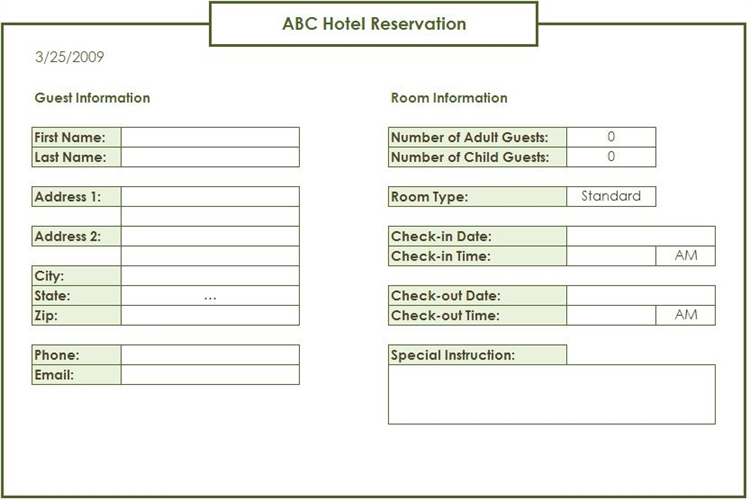textbox: (386, 359, 719, 428), (116, 238, 303, 271), (115, 339, 302, 370), (115, 141, 303, 171), (115, 280, 302, 310), (115, 300, 302, 330), (117, 260, 302, 290), (117, 358, 301, 388), (115, 201, 305, 230), (116, 222, 303, 251), (116, 124, 303, 152), (115, 184, 303, 210), (564, 221, 719, 251), (563, 282, 719, 307), (563, 300, 662, 329), (562, 123, 660, 152), (562, 141, 657, 170), (561, 180, 659, 208), (564, 241, 661, 268), (651, 298, 719, 331), (650, 239, 717, 269)
